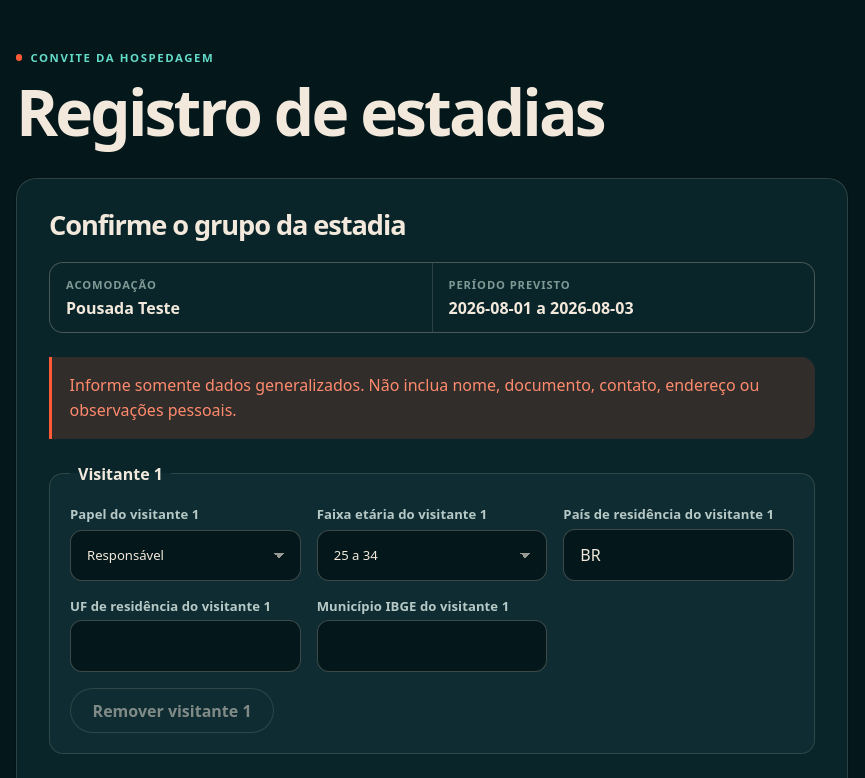
Scenario: registro por convite › conclui sem oferecer pesquisa quando a resposta omite a capability
Expected: the heading "Confirme o grupo da estadia" is shown, [49,206,406,243]
Type "BA" into the field labelled "UF de residência do visitante 1" at (185, 646), box [70,620,301,672]
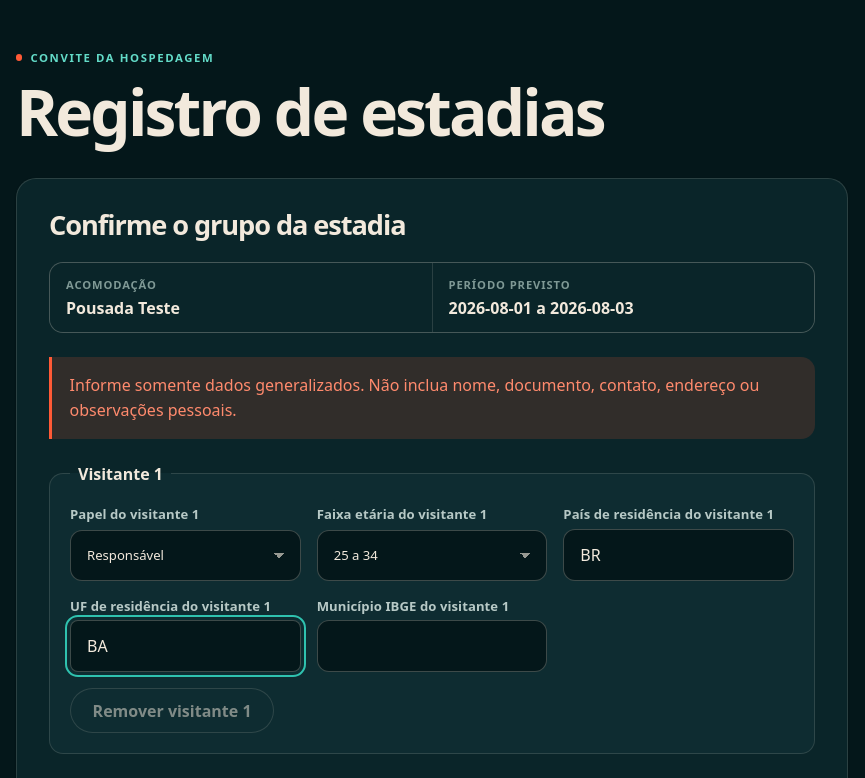
Type "2925509" into the field labelled "Município IBGE do visitante 1" at (432, 646), box [317,620,547,672]
(page scrolled)
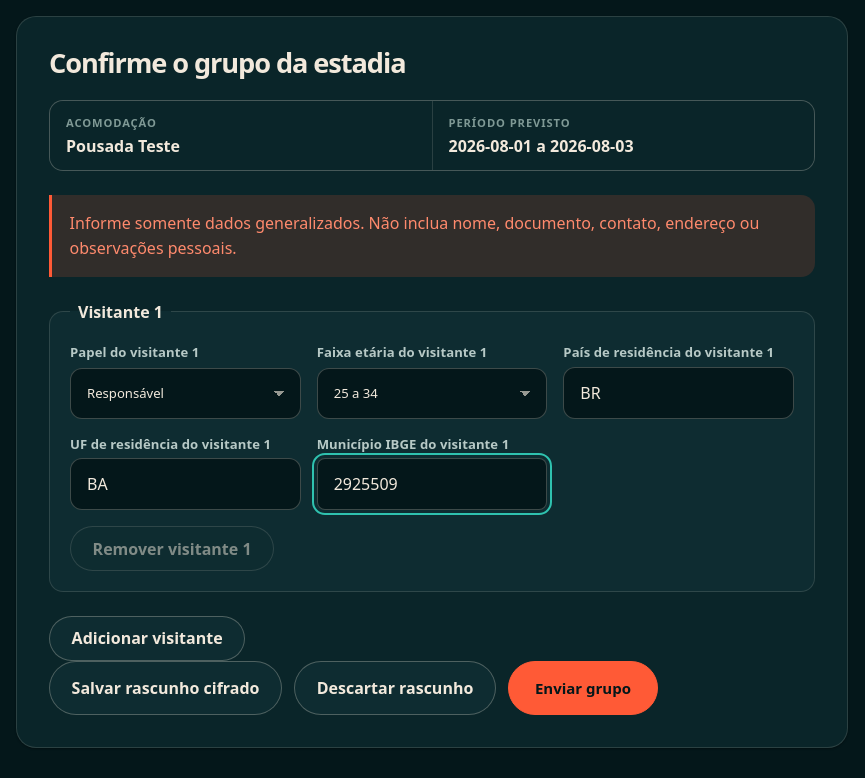
Click the button "Enviar grupo" at (583, 688), box [508,661,658,715]
(page scrolled)
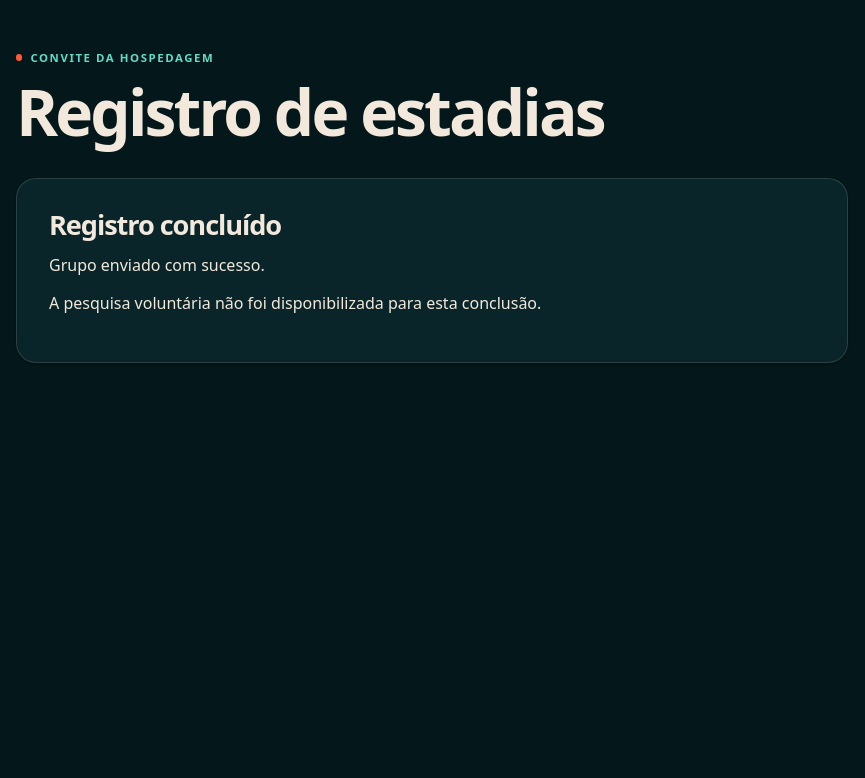
Expected: the heading "Registro concluído" is shown, [49,206,281,243]
Expected: the text "pesquisa voluntária não foi disponibilizada" is shown, [49,292,541,314]
